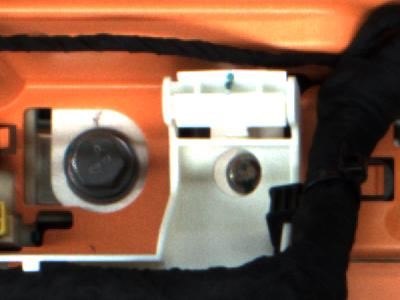nut_b: (58, 116, 161, 216)
